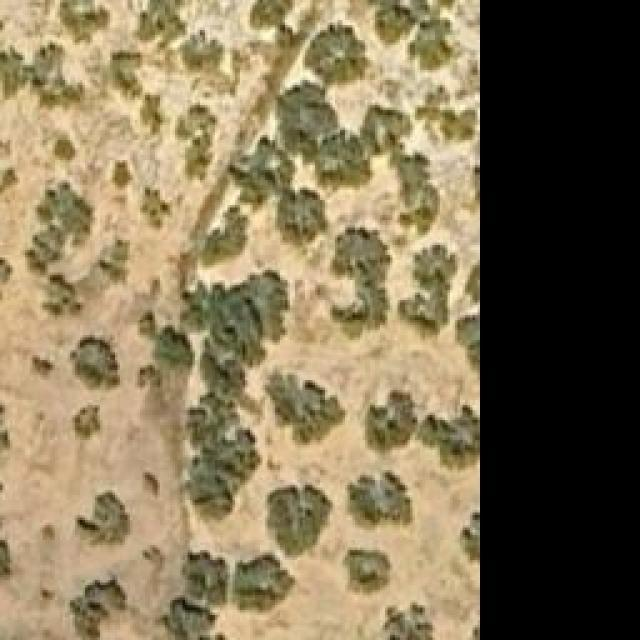Tree: (183, 270, 288, 365), (25, 183, 93, 276), (365, 0, 452, 72), (333, 228, 393, 328), (398, 245, 461, 338), (265, 375, 345, 443), (0, 42, 82, 107), (388, 148, 444, 228), (113, 45, 163, 133), (70, 572, 128, 640), (267, 487, 325, 555), (348, 472, 413, 530), (425, 402, 480, 470), (415, 85, 478, 143), (278, 82, 331, 150), (363, 393, 418, 453), (175, 105, 218, 180), (235, 555, 293, 610), (232, 143, 290, 198), (310, 25, 365, 78), (200, 205, 248, 265), (48, 0, 111, 45), (78, 493, 131, 546), (182, 550, 230, 608), (70, 338, 120, 391), (317, 135, 365, 185), (155, 600, 218, 638), (278, 190, 321, 243), (187, 393, 235, 438), (383, 602, 436, 640), (153, 328, 193, 373), (365, 105, 405, 150), (345, 548, 388, 588), (248, 0, 298, 30), (455, 315, 478, 380), (140, 188, 173, 228), (458, 513, 478, 563), (72, 405, 100, 438), (140, 468, 162, 496), (112, 160, 130, 190), (33, 358, 53, 381), (55, 140, 73, 160)
